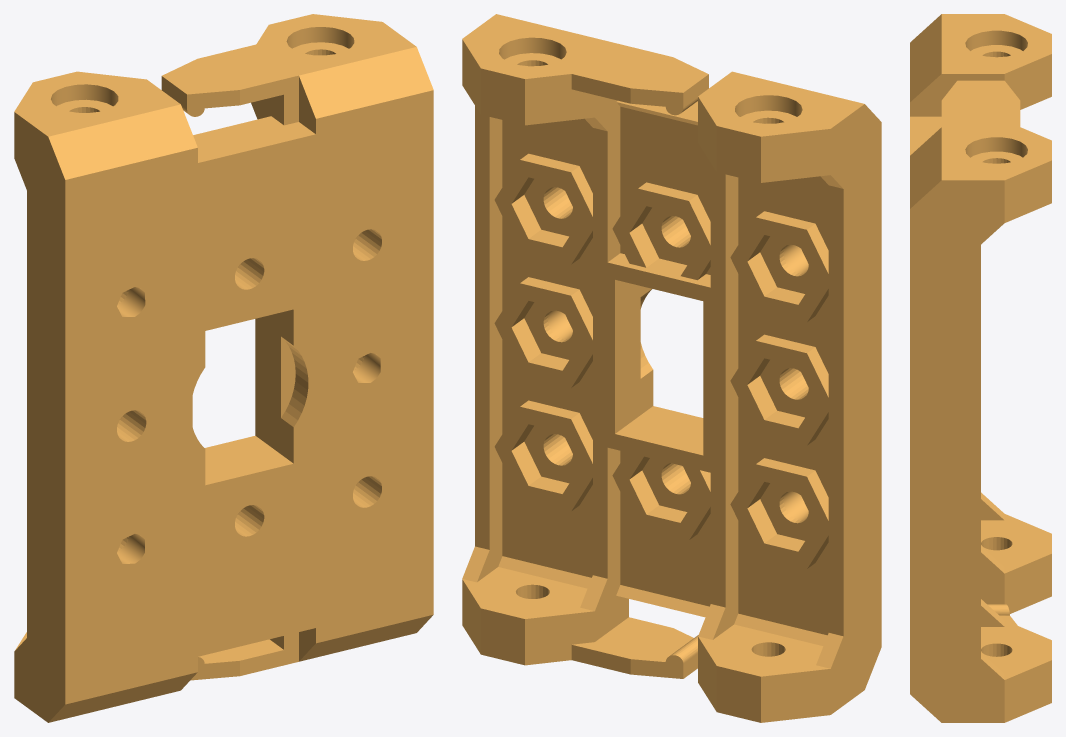
The picture shows the model from 3 angles, left to right: view 1: azimuth 30°, elevation 25°; view 2: azimuth 150°, elevation 25°; view 3: azimuth 270°, elevation 25°; orthographic projection. The views are drawn at different scales.
Visible parts, largest first — view 1: mesh_1_F3; view 2: mesh_1_F3; view 3: mesh_1_F3.
Part boxes in pixels (x1=…): mesh_1_F3: x1=14, y1=14, x2=433, y2=722; mesh_1_F3: x1=462, y1=14, x2=881, y2=722; mesh_1_F3: x1=910, y1=14, x2=1051, y2=722.
Size of the model in its own units: 0.025 by 0.009 by 0.038.
